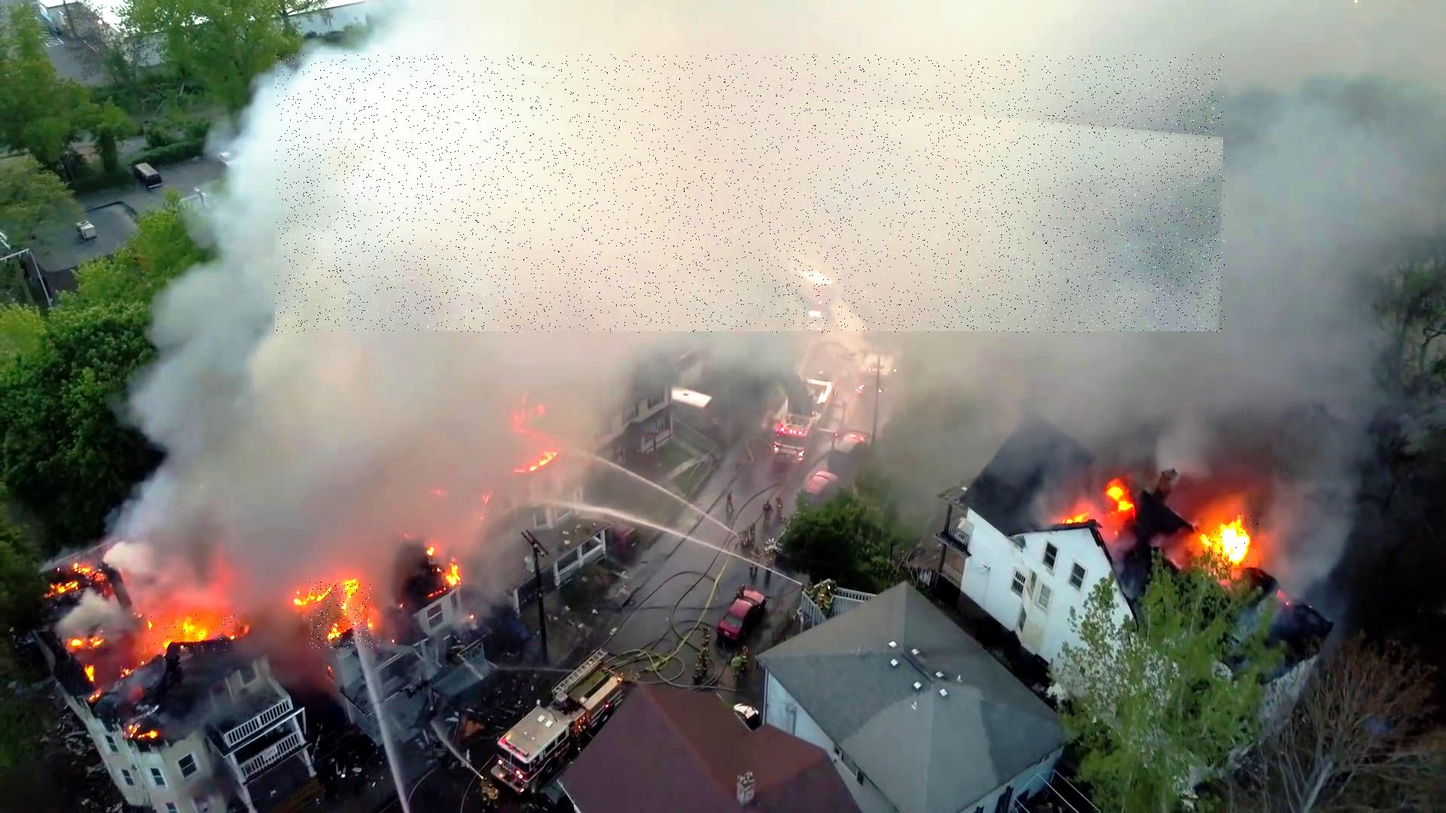fire: (310, 582, 373, 649), (150, 612, 240, 652), (1213, 514, 1259, 568)
smoke: (275, 55, 1225, 333)
